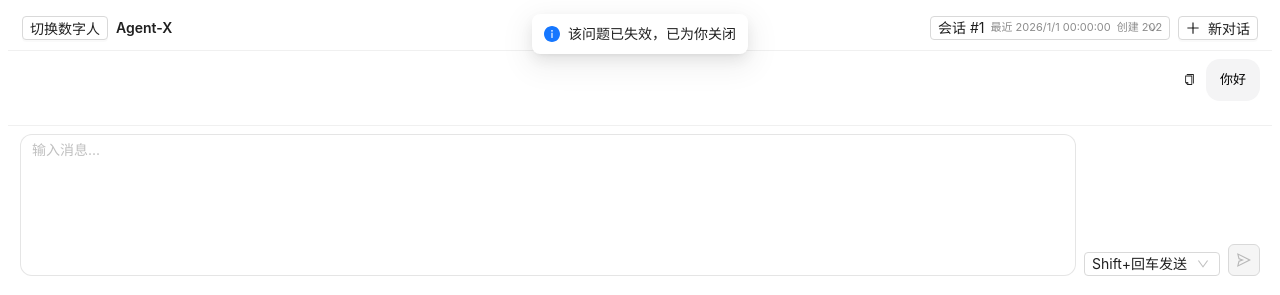
Scenario: WorkitemClarificationPanel ACP 交互接线 › completes slash commands announced by acp_commands
Type "/qu" into the text box with placeholder "输入消息..." at point(548, 205), box [20,134,1076,276]
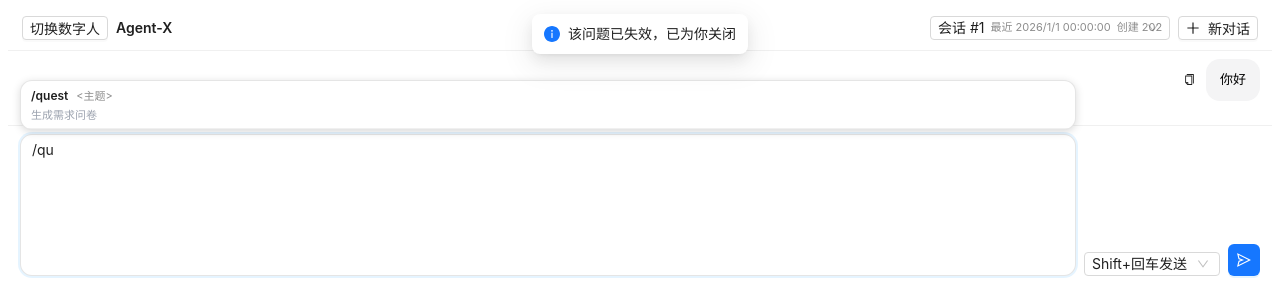
Result: the element with test id "slash-command-picker" is shown
Result: the text "生成需求问卷" is shown at [31,109,97,121]
Result: the text "<主题>" is shown at [76,88,113,106]
Click the button with test id "slash-command-quest" at point(50, 96), box [21,81,1075,129]
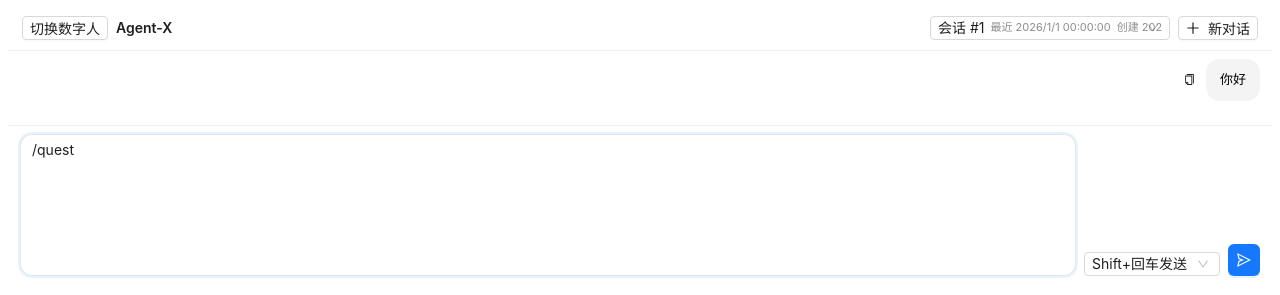
Result: the text box with placeholder "输入消息..." holds "/quest " at [20,134,1076,276]
Result: the element with test id "slash-command-picker" is gone
